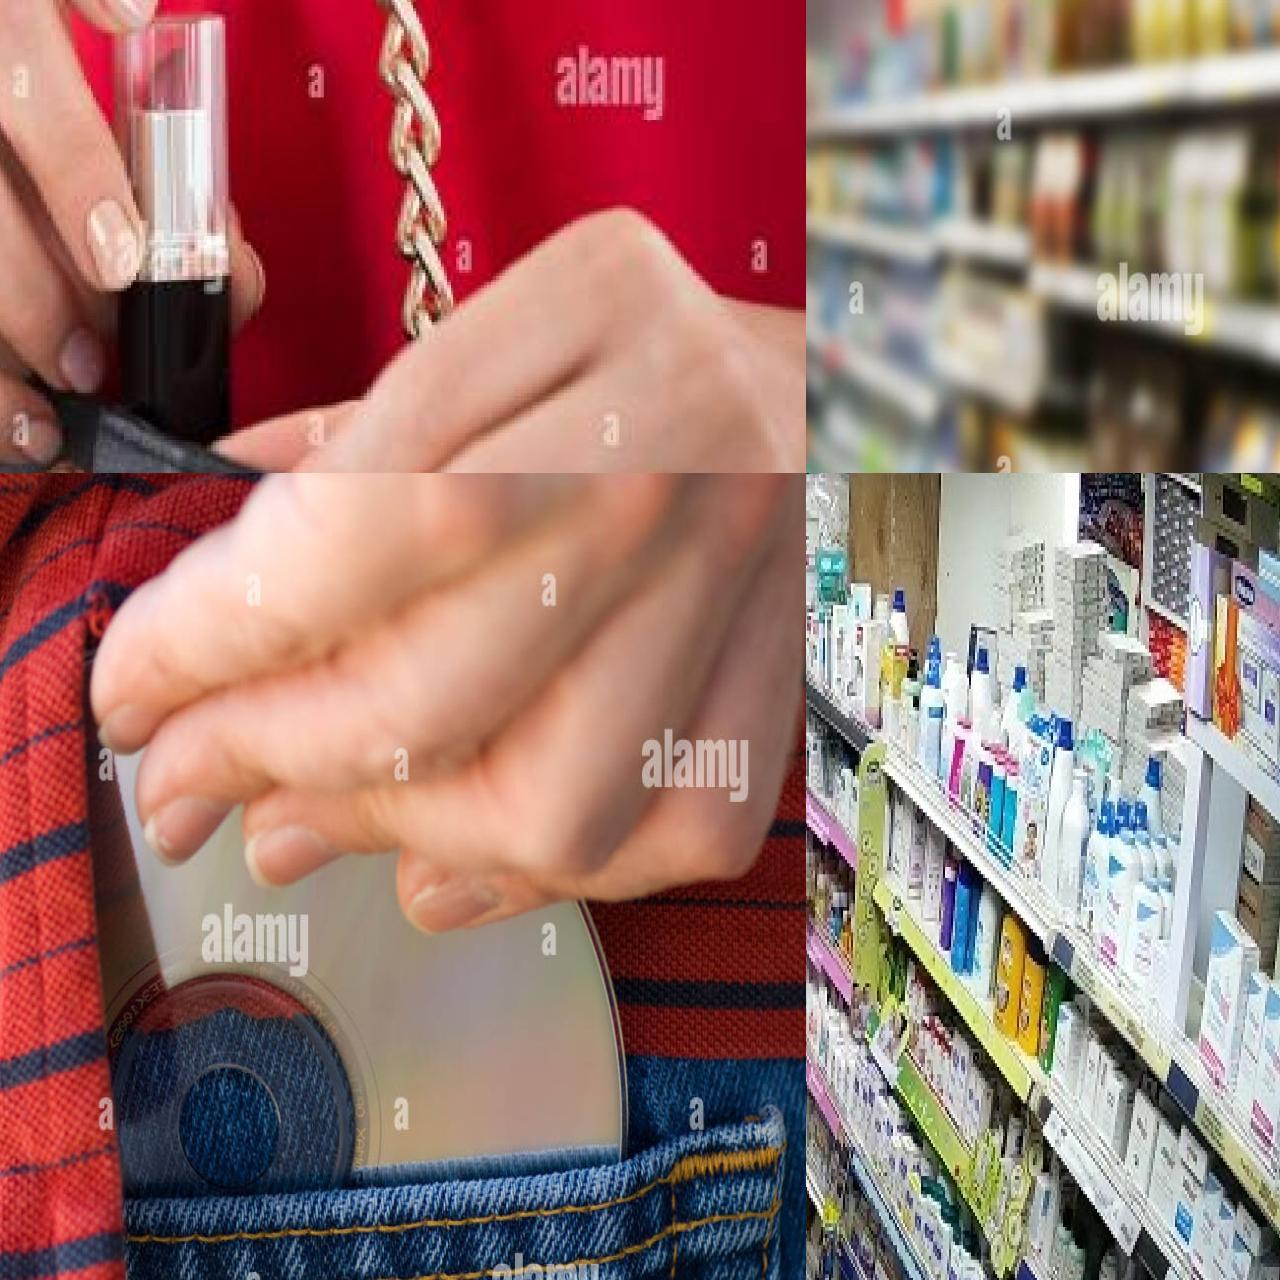Shoplifting: (0, 474, 708, 1280), (0, 0, 510, 474), (806, 0, 974, 474)
